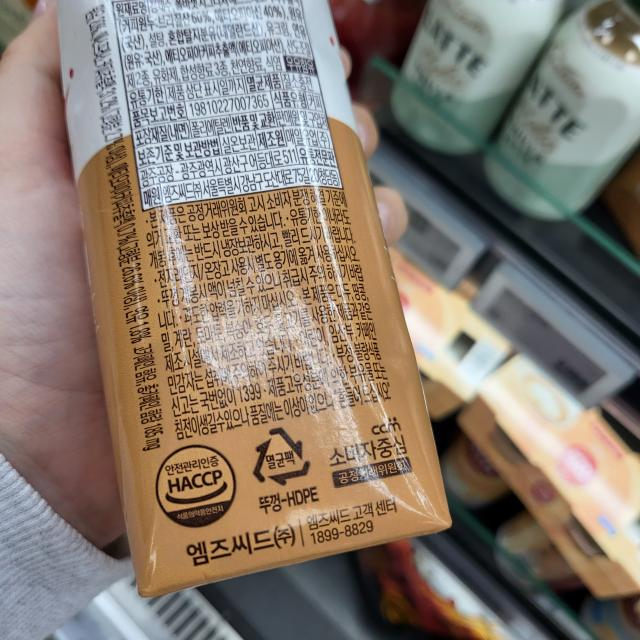SterilizedPack: (250, 424, 314, 488)
